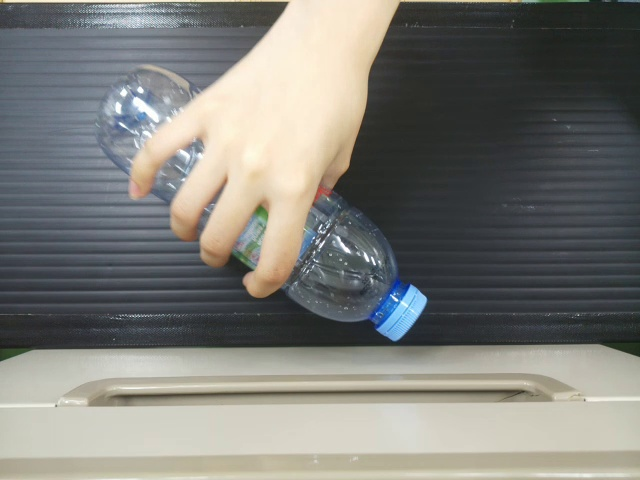bottle: (281, 181, 433, 341), (86, 58, 194, 178)
